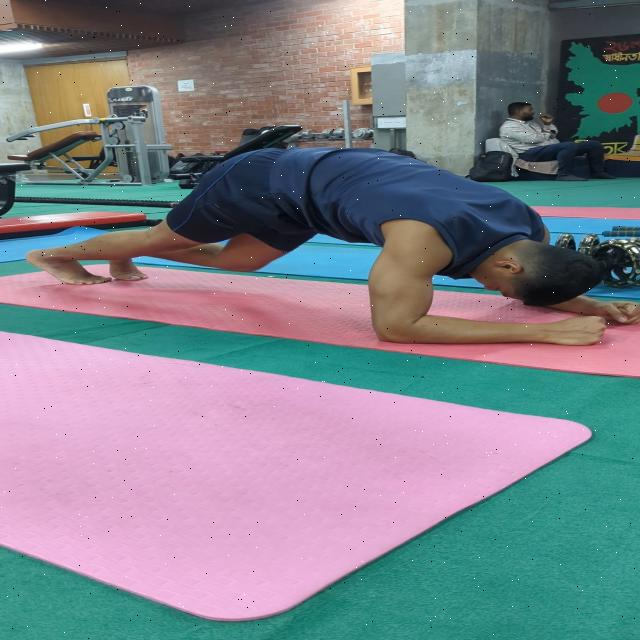Normal_MountainClimbers: (39, 134, 640, 364)
